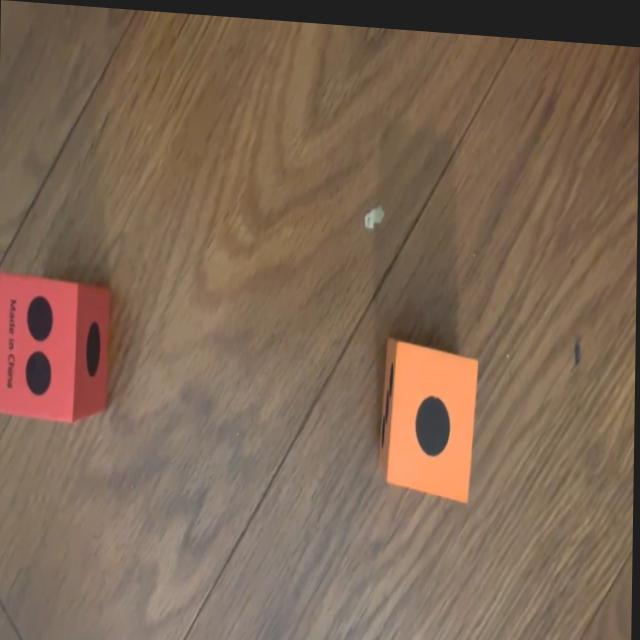cube: (0, 276, 112, 424)
